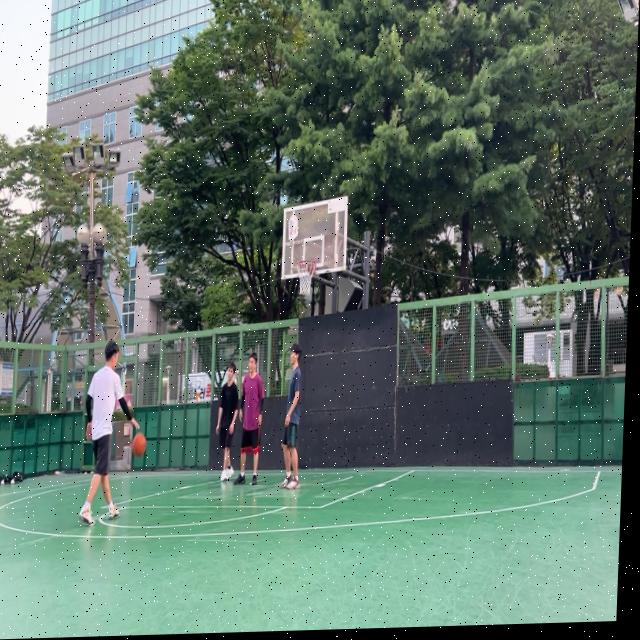basketball: (132, 433, 147, 457)
hoop: (294, 259, 317, 296)
